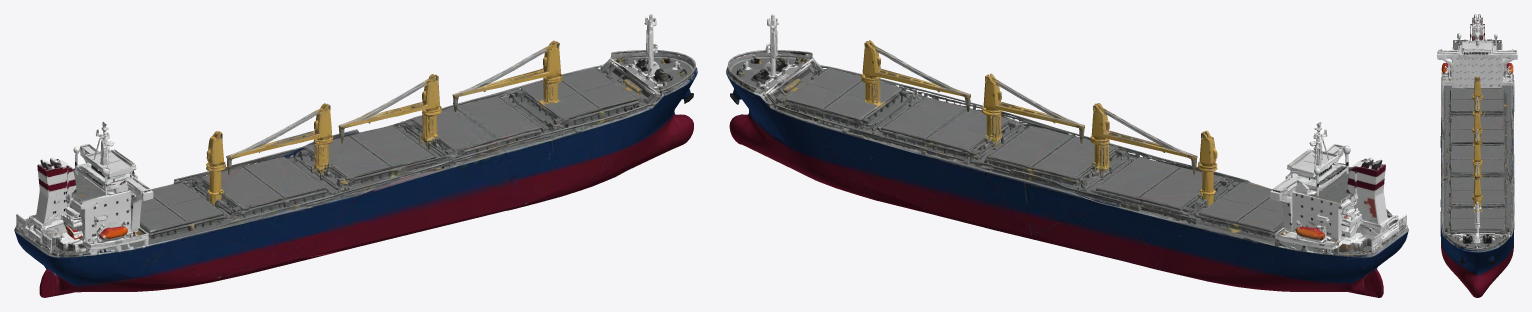
File: 04_bulk_carrier_180m.glb
3 renders of one model, left to right at view 1: azimuth 30°, elevation 25°; view 2: azimuth 150°, elevation 25°; view 3: azimuth 270°, elevation 25°, orthographic. The views are drawn at different scales.
Visible parts, largest first — view 1: Mesh_0; view 2: Mesh_0; view 3: Mesh_0.
Boxes of the visible parts, x1,y1,x2,y2 form: Mesh_0: (14, 14, 697, 297); Mesh_0: (726, 14, 1408, 297); Mesh_0: (1437, 14, 1517, 297).
Size of the model in its own units: 180 by 41.9 by 29.99.
Materials: 1 (1 with a texture image).
